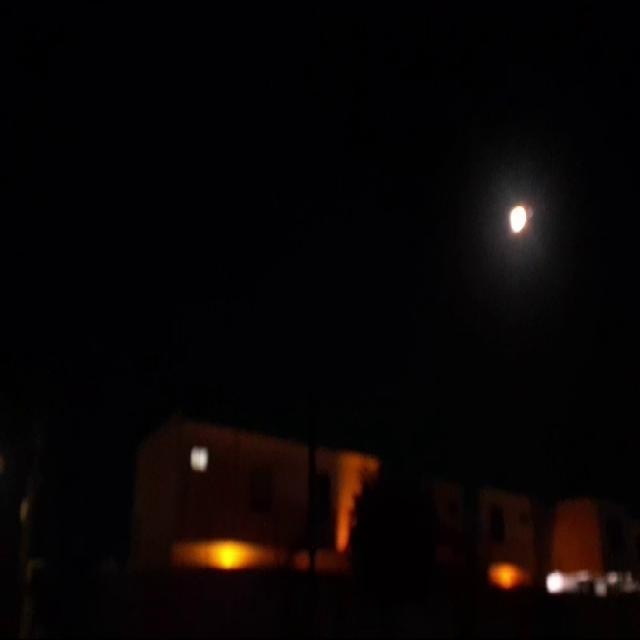moon: (506, 192, 529, 226)
